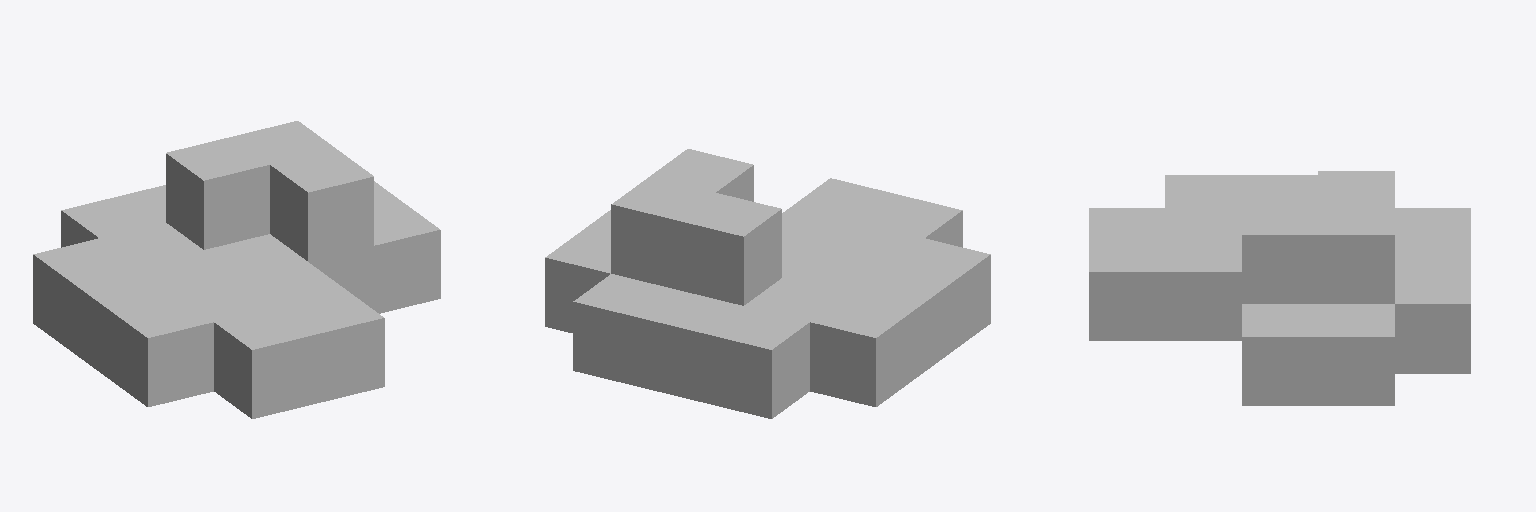
File: lilypads2-0.obj
The picture shows the model from 3 angles: view 1: azimuth 30°, elevation 25°; view 2: azimuth 150°, elevation 25°; view 3: azimuth 270°, elevation 25°; orthographic projection.
Visible parts, largest first — view 1: object 1; view 2: object 1; view 3: object 1.
Boxes of the visible parts, box(x1,y1,x2,y2) form: object 1: box(33, 121, 440, 418); object 1: box(545, 149, 990, 418); object 1: box(1089, 171, 1470, 405).
Bounding box in the file's own units: 0.5 × 0.2 × 0.5.